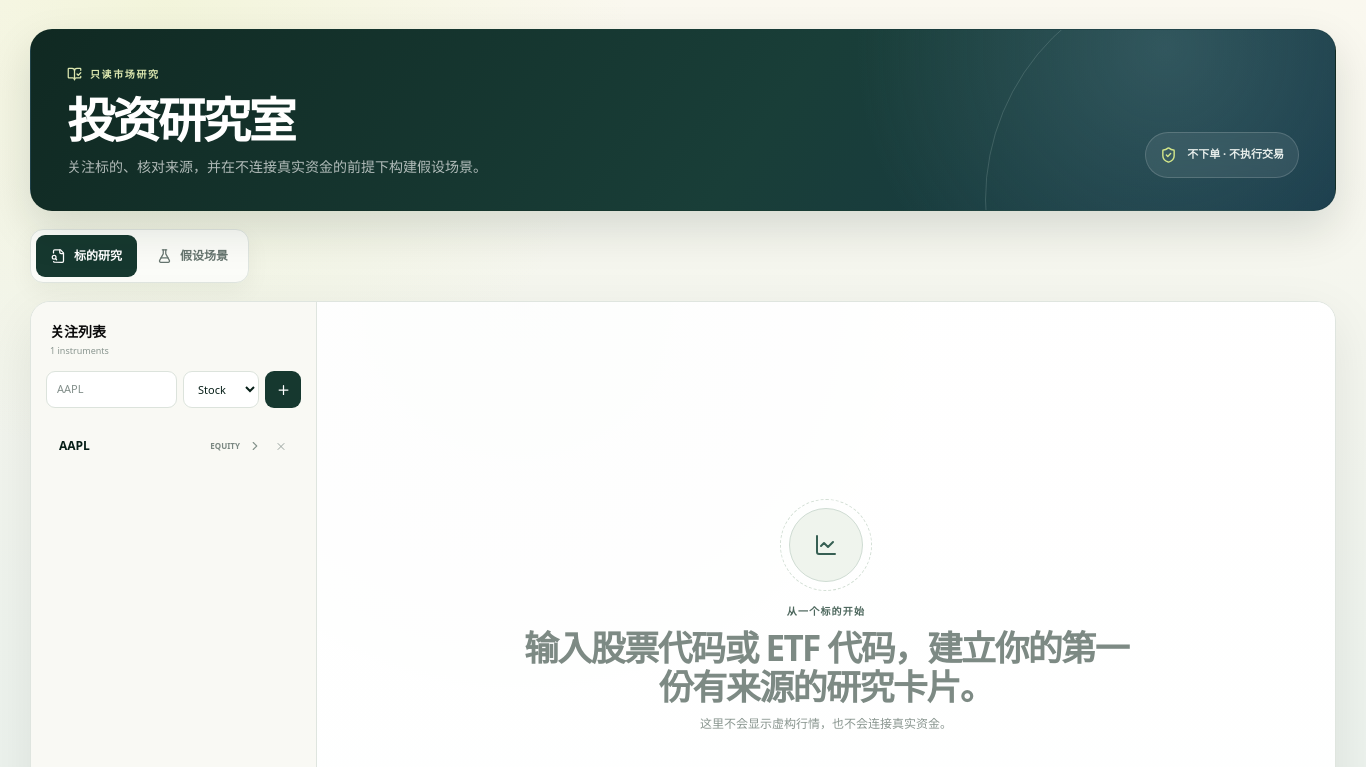
Test: InvestmentResearchPage › separates performance, benchmark, and personal readiness
Click the text "AAPL": (74, 446) [59,437,90,454]
(page scrolled)
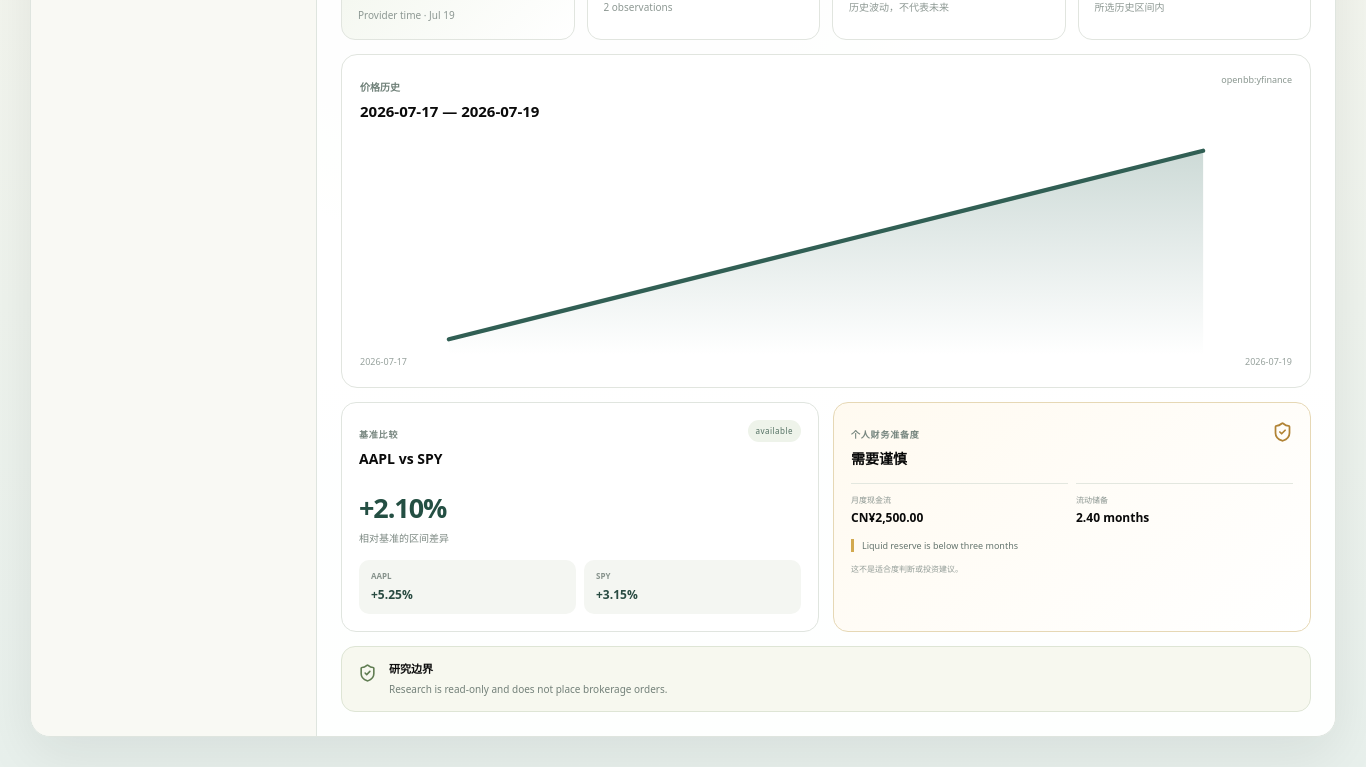
Expected: the text "+5.25%" is shown 2 times
Expected: the heading "AAPL vs SPY" is shown, [359,448,442,469]
Expected: the text "+2.10%" is shown, [359,489,446,526]
